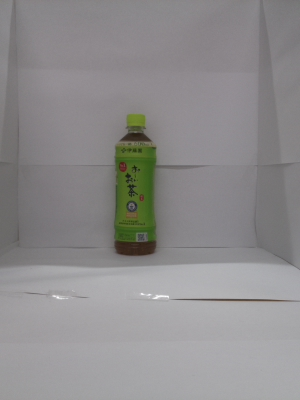おーいお茶: (106, 105, 164, 263)
